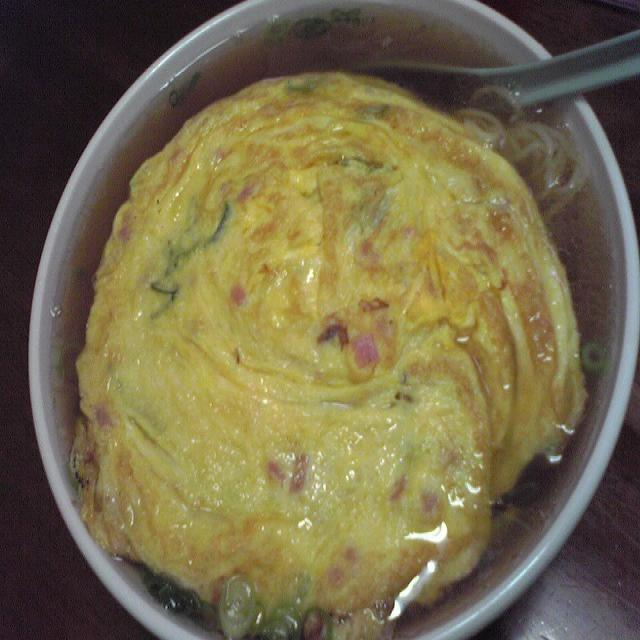面条主食: (64, 0, 616, 640)
